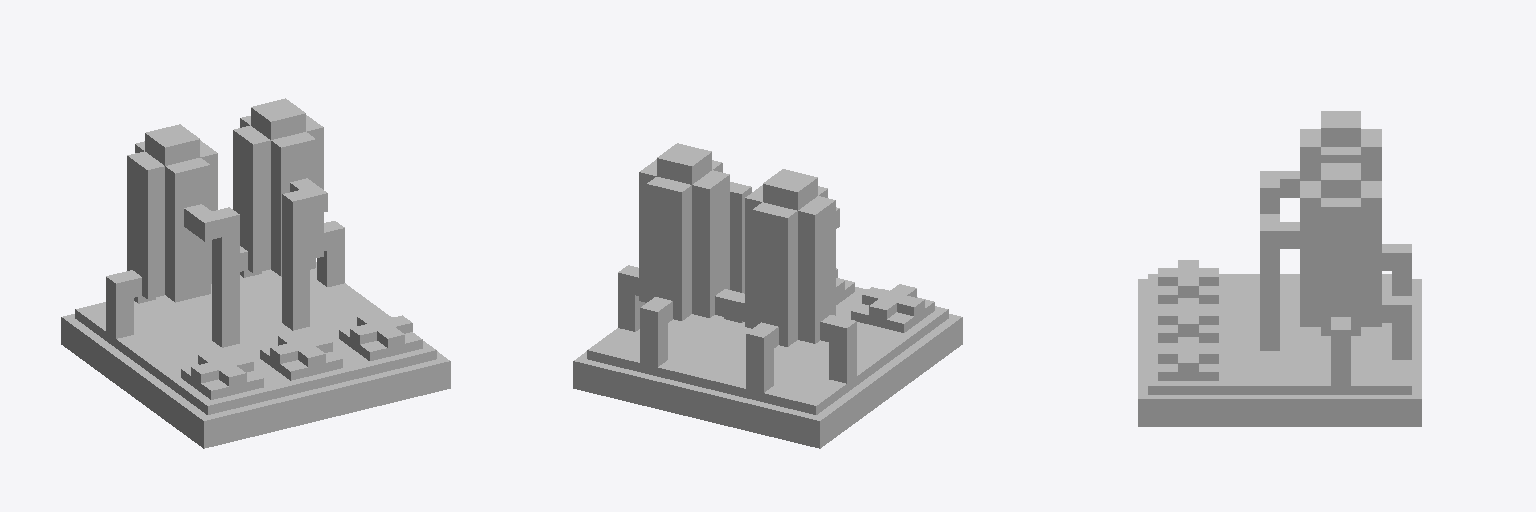
Rendered from o2_gen.obj.
3 renders of one model, left to right at view 1: azimuth 30°, elevation 25°; view 2: azimuth 150°, elevation 25°; view 3: azimuth 270°, elevation 25°, orthographic.
Visible parts, largest first — view 1: o2-gen; view 2: o2-gen; view 3: o2-gen.
Boxes of the visible parts, <box> form: o2-gen: <box>61,98,450,448</box>; o2-gen: <box>573,143,962,448</box>; o2-gen: <box>1138,111,1421,426</box>.
Size of the model in its own units: 28 by 24 by 28.